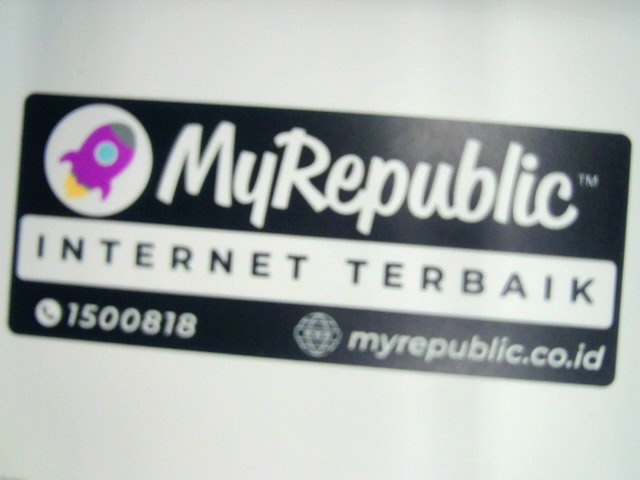BD_MyRepublic: (8, 85, 630, 386)
